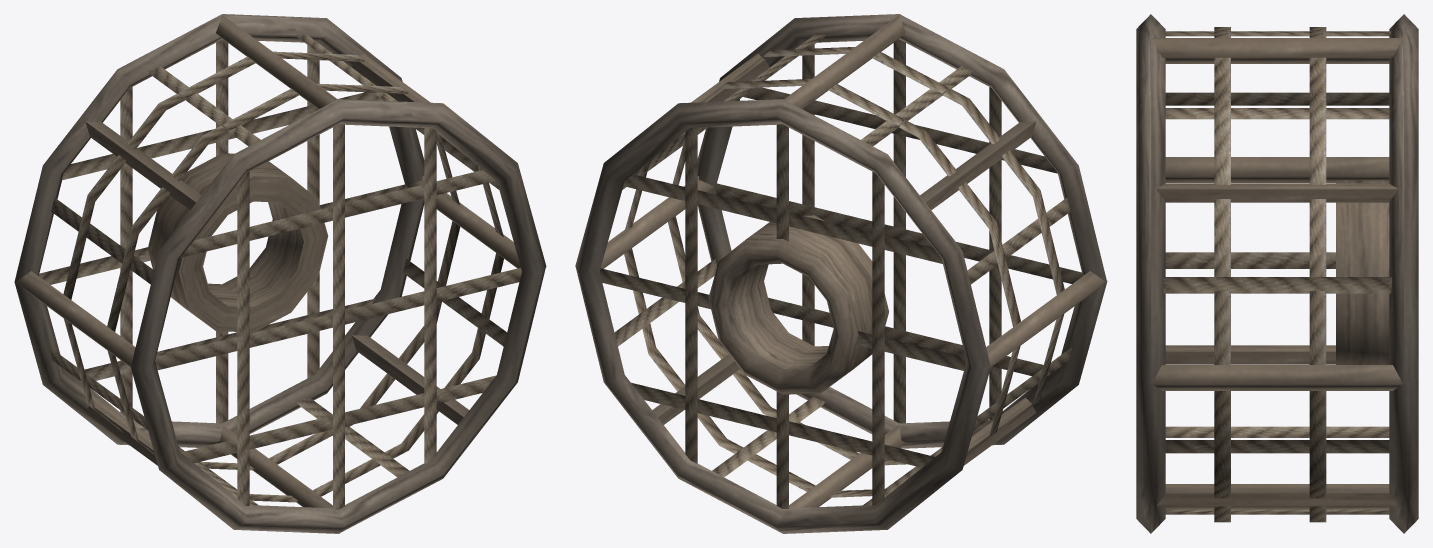
The model's file is Crab_Trap_B.fbx.
3 renders of one model, left to right at view 1: azimuth 30°, elevation 25°; view 2: azimuth 150°, elevation 25°; view 3: azimuth 270°, elevation 25°, orthographic. The views are drawn at different scales.
Visible parts, largest first — view 1: Crab_Trap_B; view 2: Crab_Trap_B; view 3: Crab_Trap_B.
Boxes of the visible parts, bbox=[...] form: Crab_Trap_B: bbox=[14, 14, 546, 533]; Crab_Trap_B: bbox=[575, 14, 1107, 533]; Crab_Trap_B: bbox=[1136, 14, 1418, 533].
Bounding box in the file's own units: 0.9741 × 0.9741 × 0.5271.
